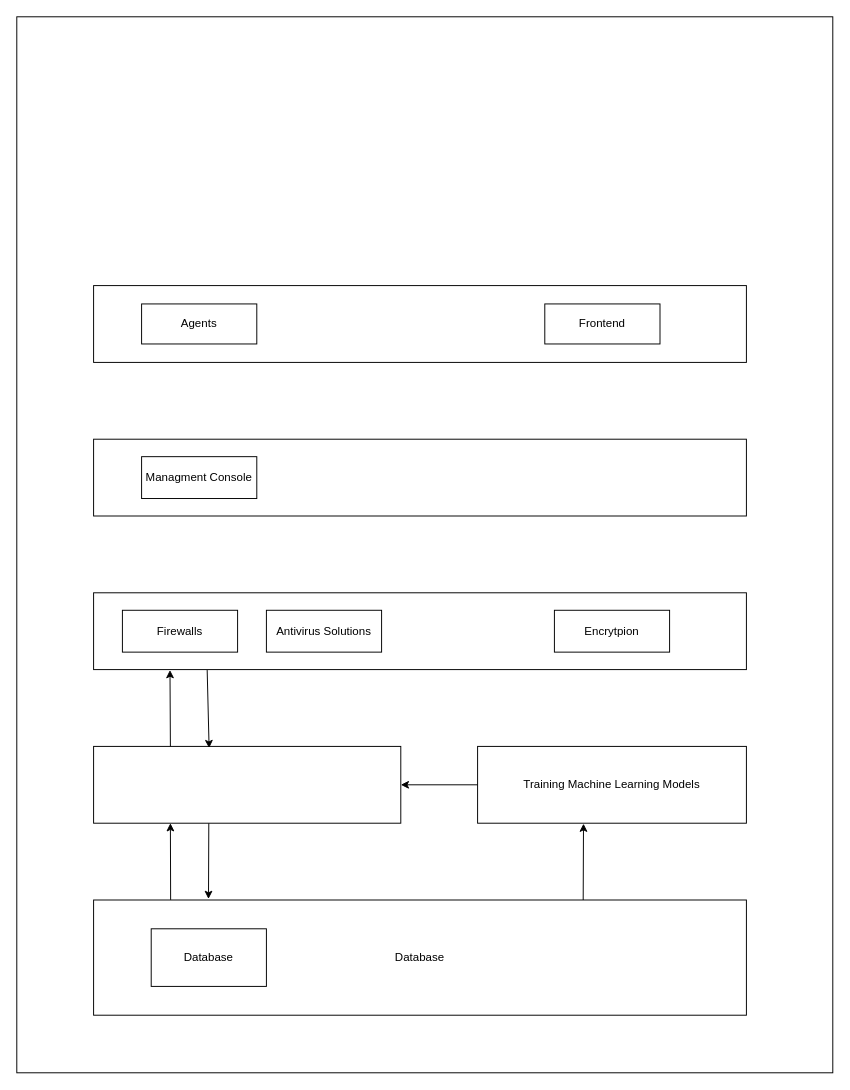
Some shapes in this 850 by 1090 pixel diagram are drawn without their labels. The box of each missing label's shape, as (x1, y1, x2, y2) in pixels:
Browser (for users): (93, 285, 746, 362)
Bussiness Logic / Controler: (93, 438, 746, 516)
Machine Learning Trained Models: (93, 745, 401, 823)
Security: (93, 592, 746, 670)
